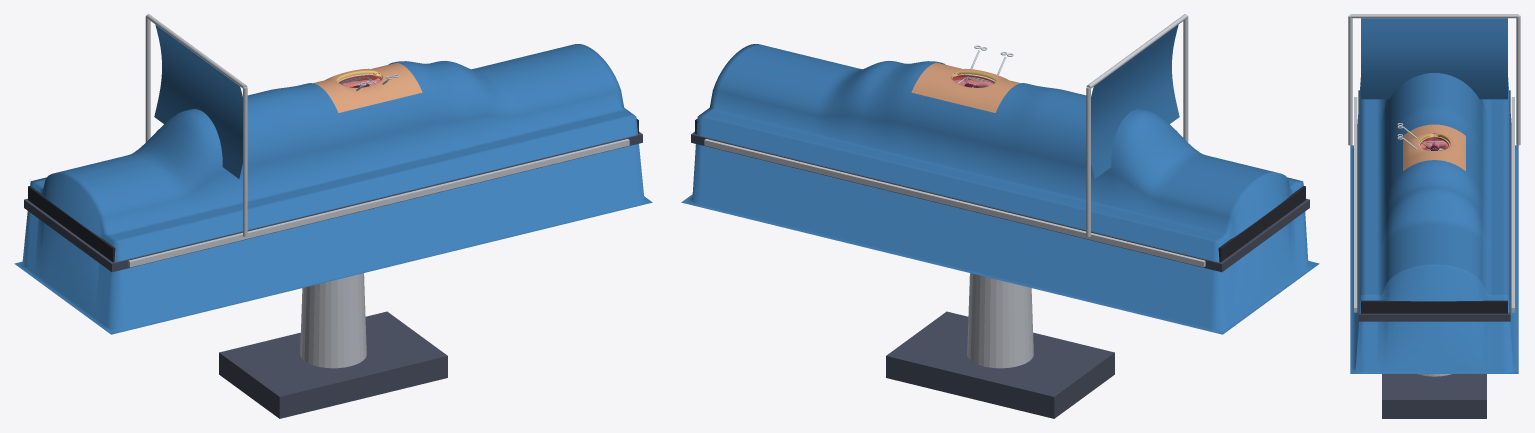
File: patient.glb
3 views of the same model, side by side, from view 1: azimuth 30°, elevation 25°; view 2: azimuth 150°, elevation 25°; view 3: azimuth 270°, elevation 25° (orthographic). The views are drawn at different scales.
Parts seen in each view (by area): view 1: Drape, Table, Skin, ScreenBar; view 2: Drape, Table, Skin, ScreenBar; view 3: Drape, Table, ScreenBar, Skin.
Boxes of the visible parts, x1=… form: Drape: x1=14, y1=25, x2=652, y2=334; Table: x1=24, y1=119, x2=642, y2=418; Skin: x1=313, y1=62, x2=422, y2=112; ScreenBar: x1=145, y1=14, x2=247, y2=236; Drape: x1=681, y1=25, x2=1319, y2=334; Table: x1=691, y1=118, x2=1309, y2=418; Skin: x1=911, y1=62, x2=1020, y2=112; ScreenBar: x1=1086, y1=14, x2=1188, y2=236; Drape: x1=1350, y1=18, x2=1518, y2=373; Table: x1=1354, y1=90, x2=1514, y2=418; ScreenBar: x1=1348, y1=14, x2=1520, y2=145; Skin: x1=1403, y1=124, x2=1465, y2=170.
Size of the model in its own units: 2.06 by 1.31 by 0.656.
